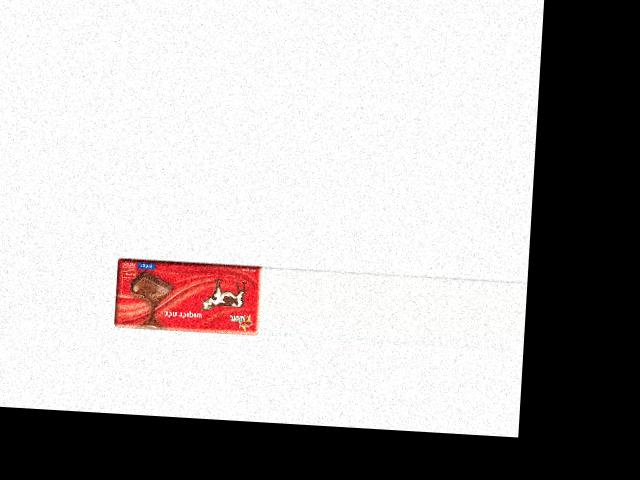chocolate: (113, 258, 263, 336)
